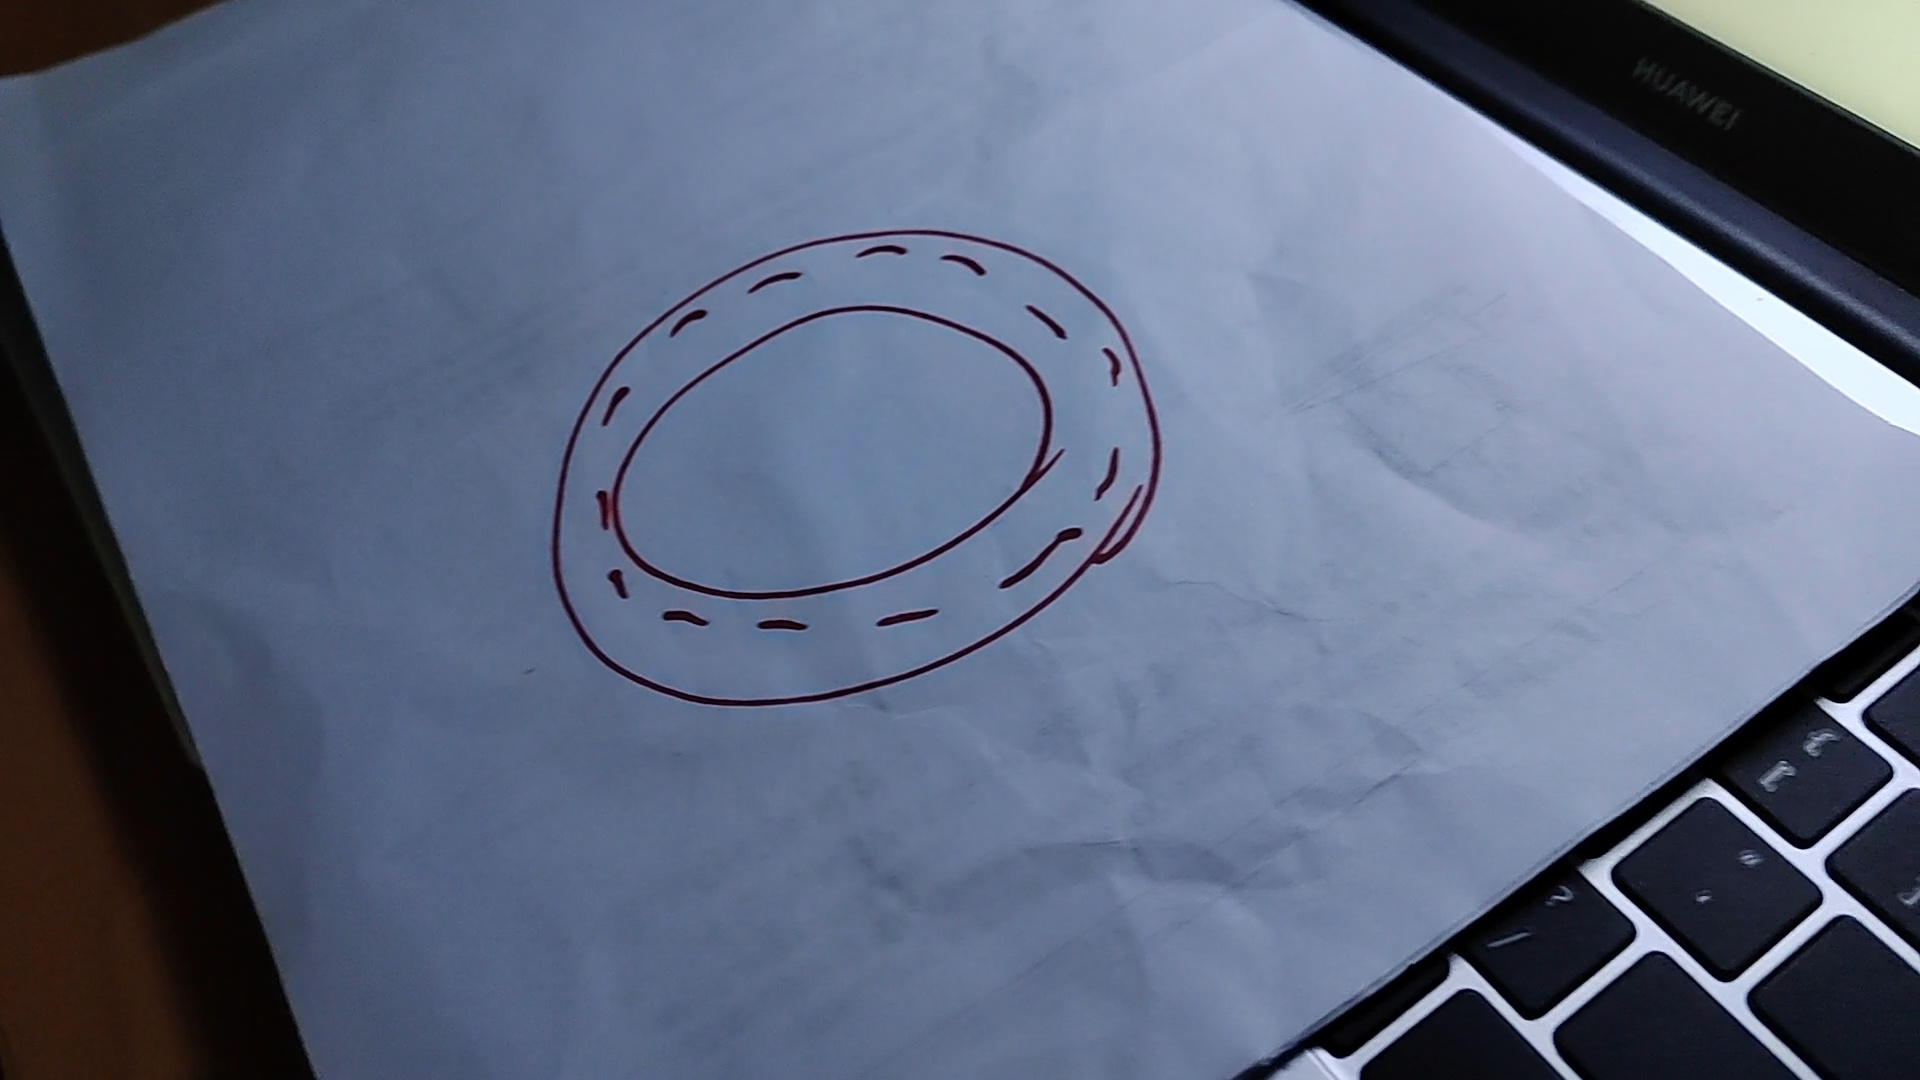circle: (554, 227, 1160, 707)
